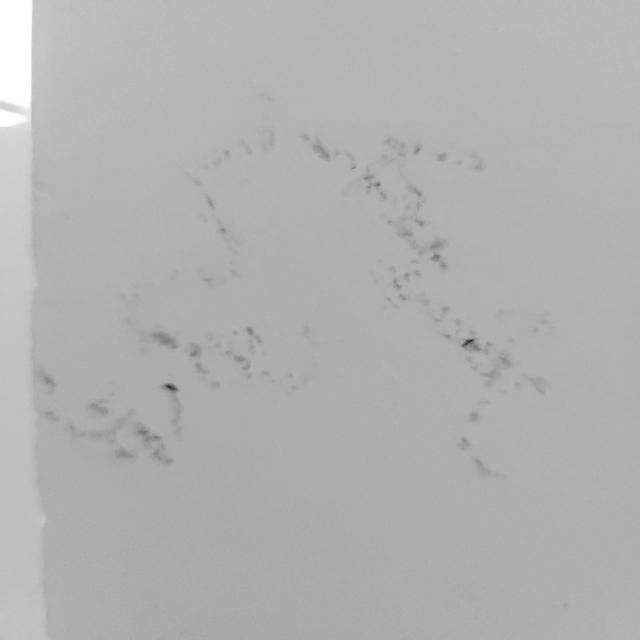stain marks: (39, 103, 574, 494)
